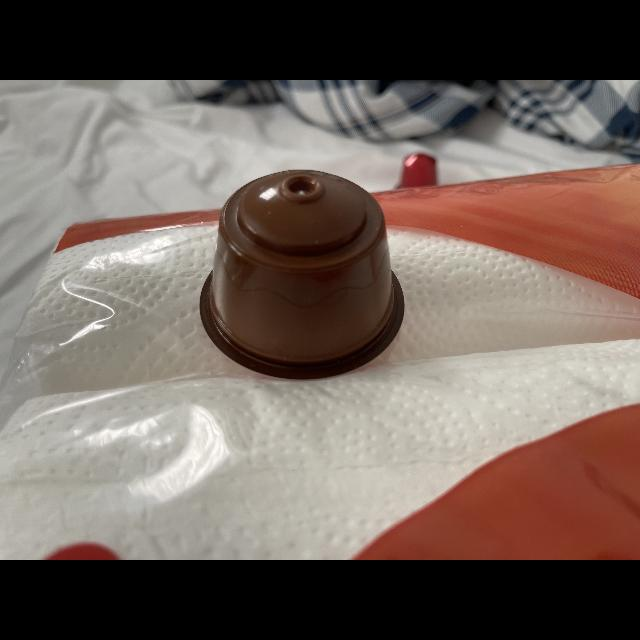intact_capsule: (184, 158, 430, 394)
